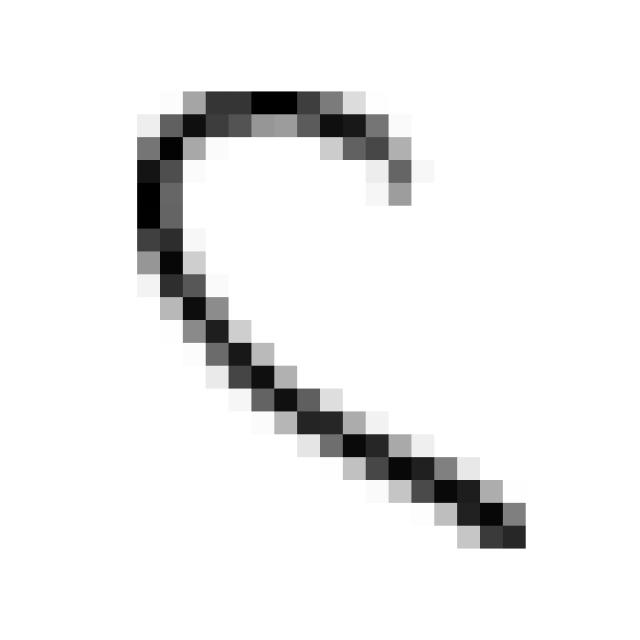2 -two-: (119, 64, 551, 571)
